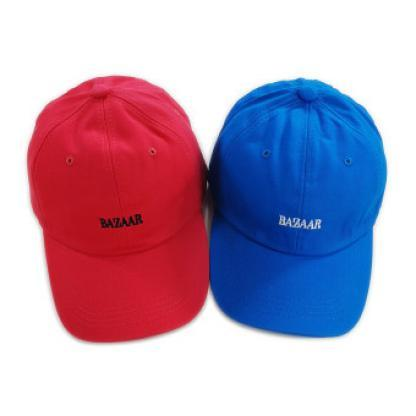cap: (18, 67, 213, 343), (209, 76, 391, 346)
